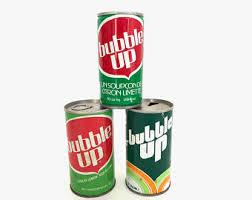Aluminum can: (120, 90, 182, 198), (90, 11, 154, 105), (63, 89, 115, 198)
